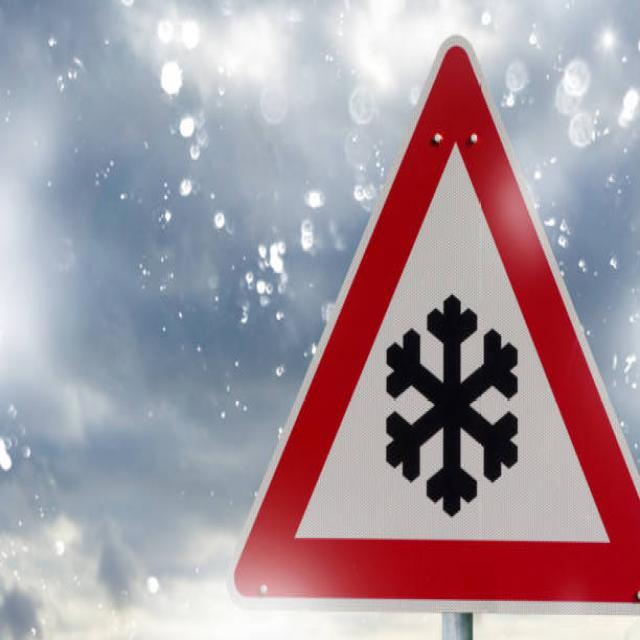snow_warning: (218, 11, 640, 627)
